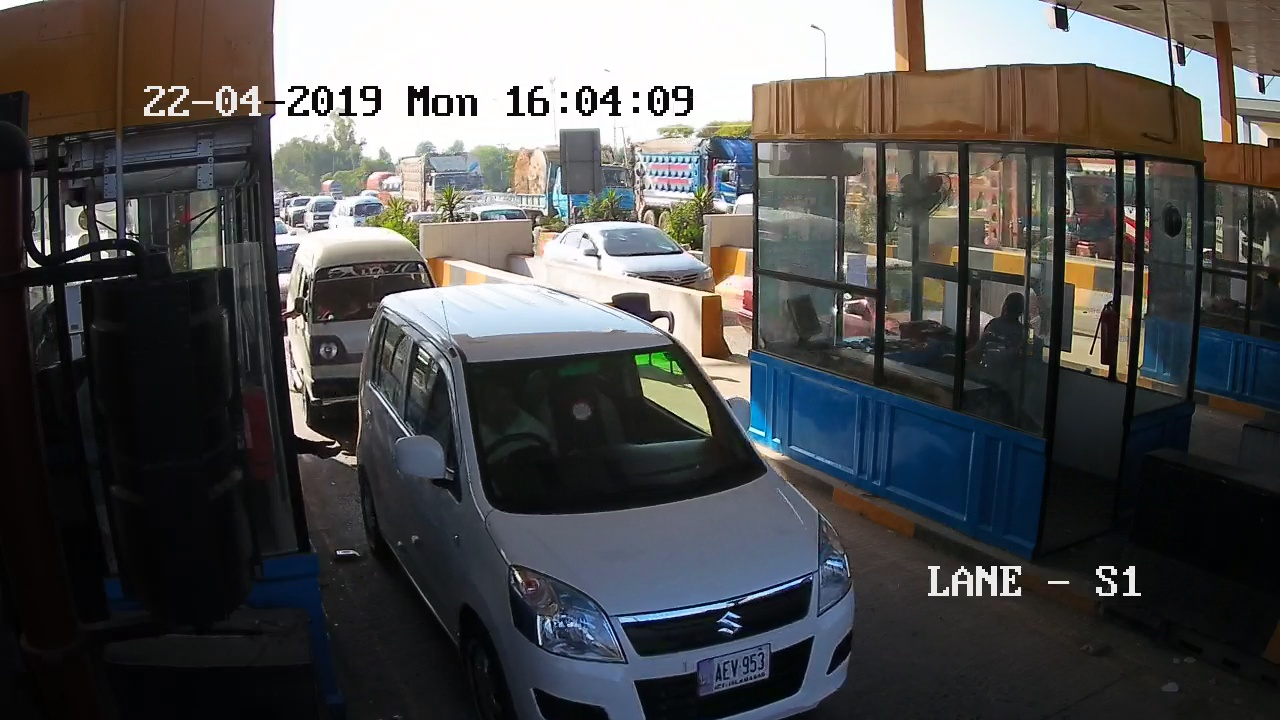Number Plate (Car): (693, 649, 777, 689)
